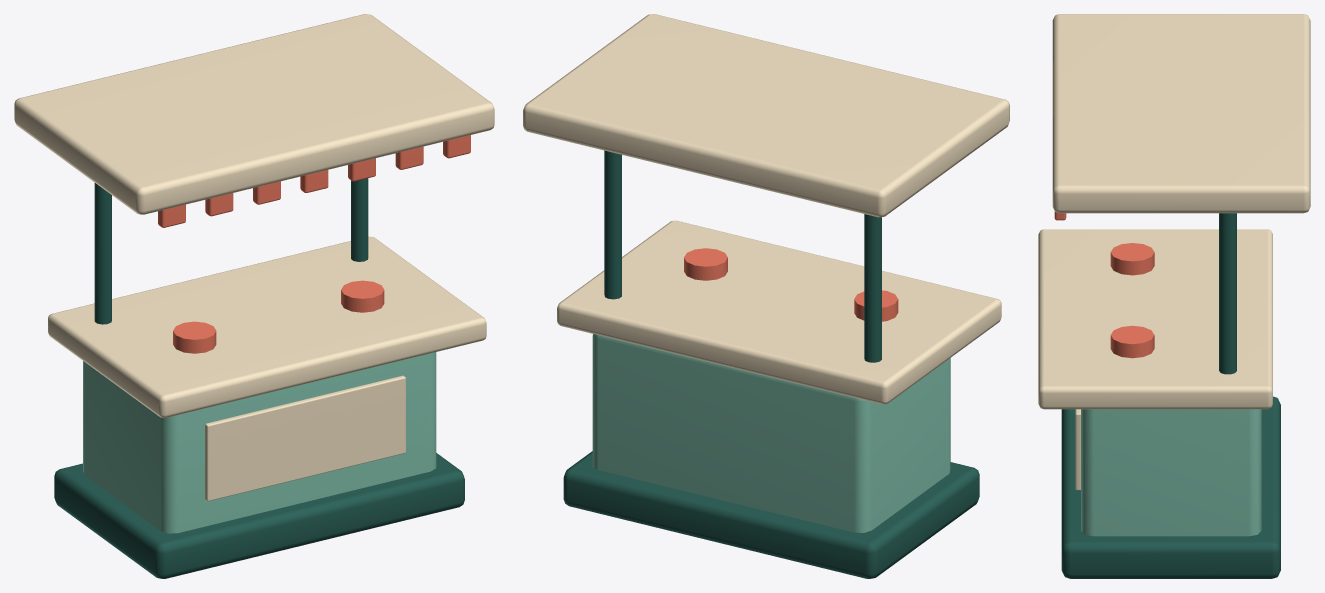
File: officials_kiosk.glb
3 views of the same model, side by side, from view 1: azimuth 30°, elevation 25°; view 2: azimuth 150°, elevation 25°; view 3: azimuth 270°, elevation 25° (orthographic).
Visible parts, largest first — view 1: athlete_officials_kiosk__cream.001_NEW_V2, athlete_officials_kiosk__mint.001_NEW_V2, athlete_officials_kiosk__ink.001_NEW_V2, athlete_officials_kiosk__coral.001_NEW_V2; view 2: athlete_officials_kiosk__cream.001_NEW_V2, athlete_officials_kiosk__mint.001_NEW_V2, athlete_officials_kiosk__ink.001_NEW_V2, athlete_officials_kiosk__coral.001_NEW_V2; view 3: athlete_officials_kiosk__cream.001_NEW_V2, athlete_officials_kiosk__mint.001_NEW_V2, athlete_officials_kiosk__ink.001_NEW_V2, athlete_officials_kiosk__coral.001_NEW_V2.
Part boxes in pixels (x1,y1,x2,y2): athlete_officials_kiosk__cream.001_NEW_V2: (14,14,494,501); athlete_officials_kiosk__mint.001_NEW_V2: (83,352,436,533); athlete_officials_kiosk__ink.001_NEW_V2: (54,178,464,578); athlete_officials_kiosk__coral.001_NEW_V2: (158,135,470,353); athlete_officials_kiosk__cream.001_NEW_V2: (523,14,1009,404); athlete_officials_kiosk__mint.001_NEW_V2: (592,334,950,532); athlete_officials_kiosk__ink.001_NEW_V2: (563,150,979,578); athlete_officials_kiosk__coral.001_NEW_V2: (684,248,898,321); athlete_officials_kiosk__cream.001_NEW_V2: (1038,14,1310,490); athlete_officials_kiosk__mint.001_NEW_V2: (1081,409,1261,536); athlete_officials_kiosk__ink.001_NEW_V2: (1061,213,1280,578); athlete_officials_kiosk__coral.001_NEW_V2: (1054,211,1154,358).
Size of the model in its own units: 1.62 by 1.74 by 1.06.
